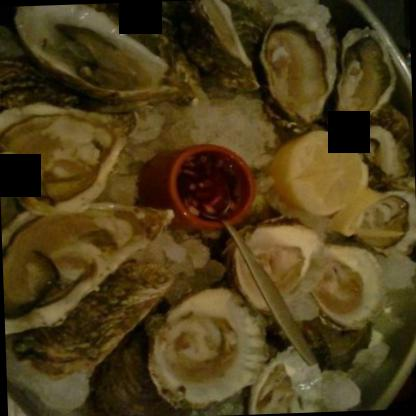oyster: (1, 204, 170, 332), (13, 3, 172, 102), (0, 101, 138, 213), (152, 296, 266, 404), (250, 10, 350, 133), (332, 32, 395, 122)
